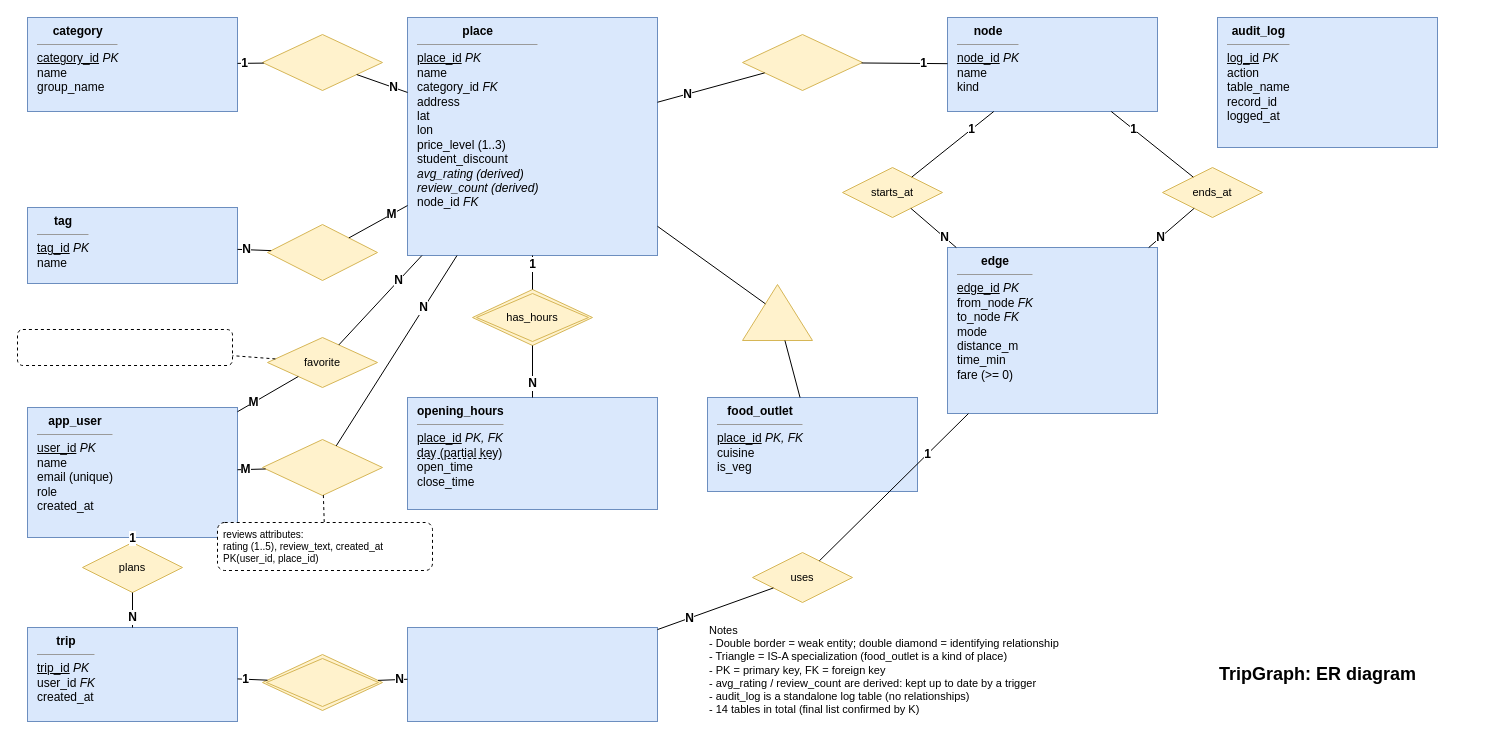
Image size: 1495x745. Some labels were removed from this diagram. Each missing label, with the box of its shape:
belongs_to: (262, 34, 382, 90)
favorite attributes: visited, saved_at PK(user_id, place_id): (16, 328, 232, 366)
has_leg: (262, 654, 382, 710)
has_tag: (266, 224, 378, 280)
IS-A: (742, 284, 812, 340)
located_at: (742, 34, 862, 90)
reviews: (262, 438, 382, 496)
trip_leg trip_id PK, FK leg_no (partial key) edge_id FK: (406, 626, 658, 722)
